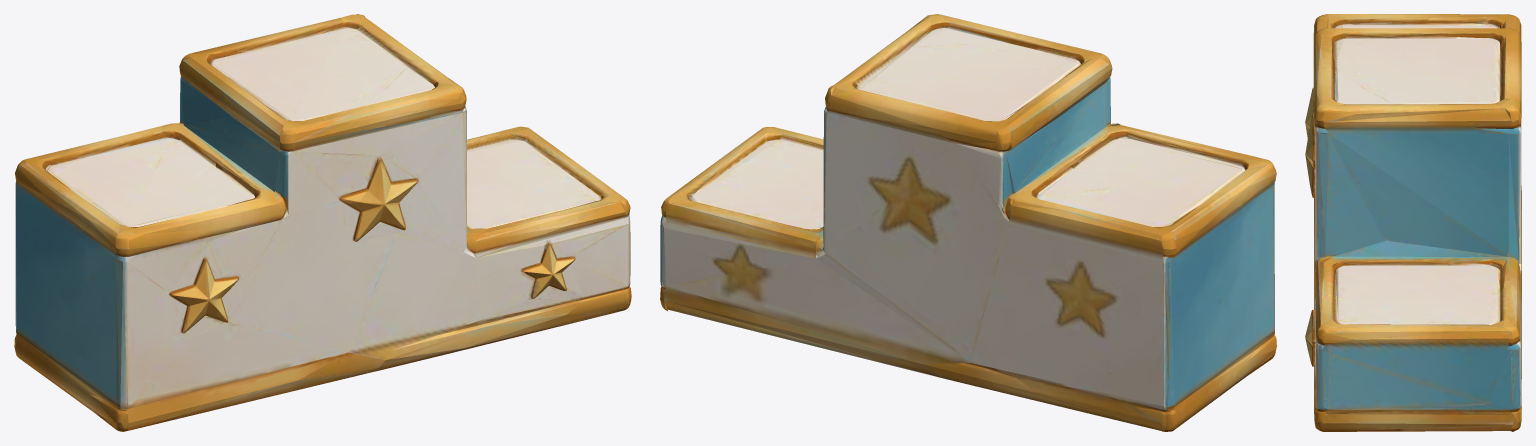
The model's file is podium.glb.
The picture shows the model from 3 angles, left to right: view 1: azimuth 30°, elevation 25°; view 2: azimuth 150°, elevation 25°; view 3: azimuth 270°, elevation 25°; orthographic projection. The views are drawn at different scales.
Size of the model in its own units: 1.9 by 0.9266 by 0.7336.
Materials: 1 (1 with a texture image).
